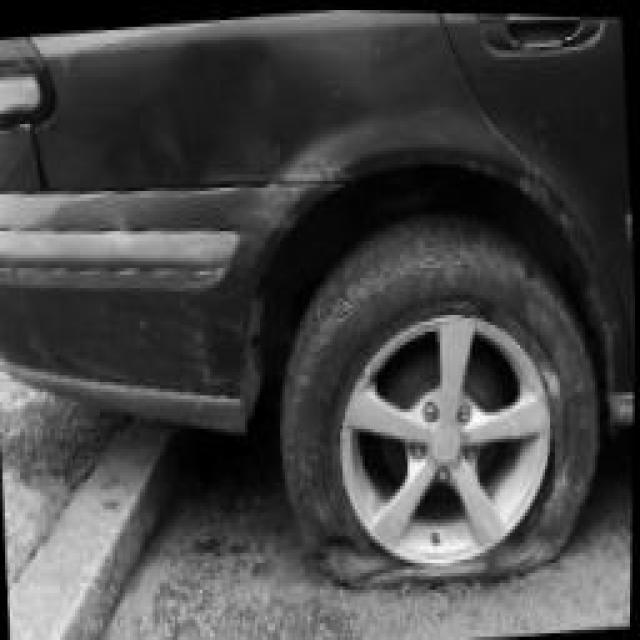Bumper: (10, 235, 257, 431)
Fender: (78, 17, 330, 250)
